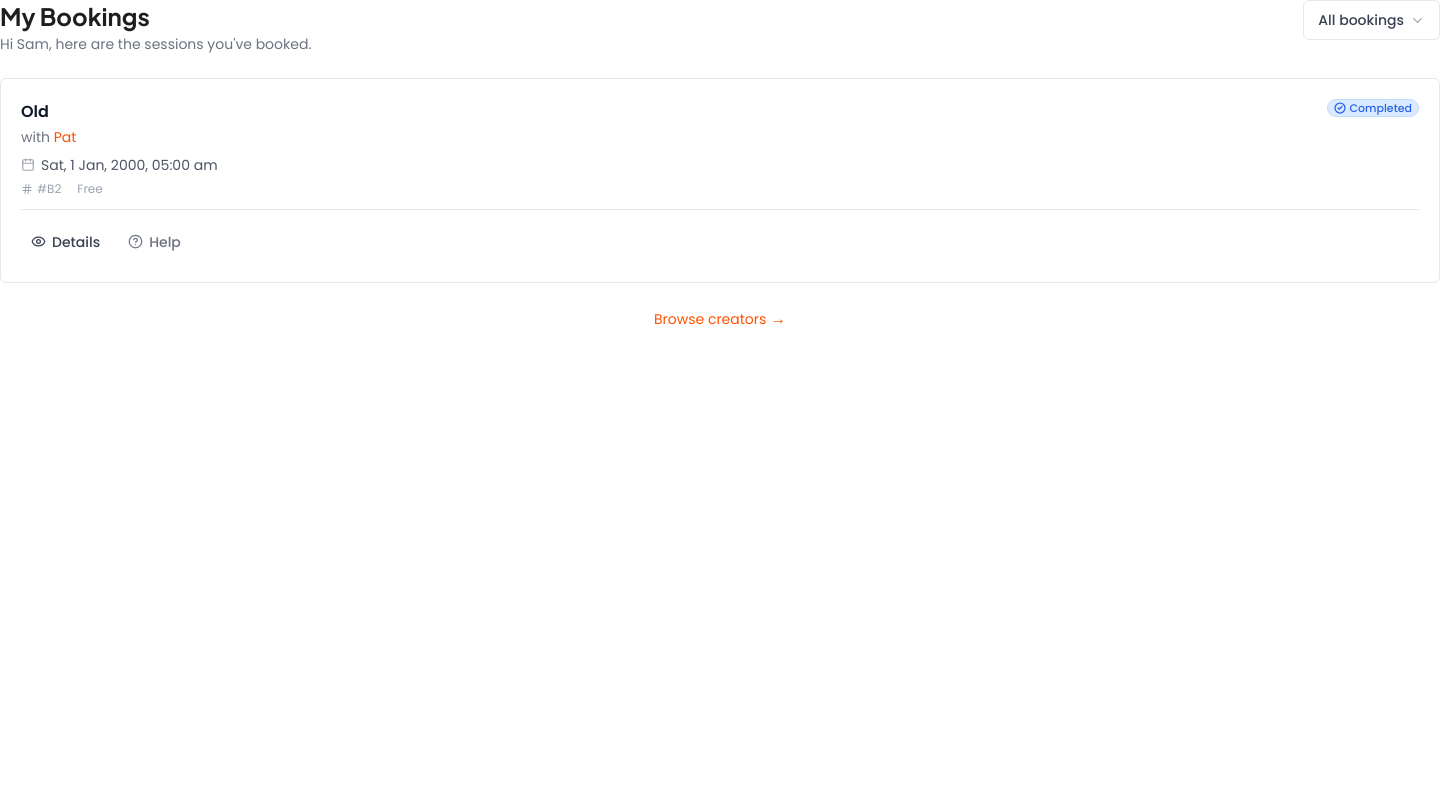
Scenario: review button hidden in Details when review flag off
Expected: the text "Old" is shown, [21, 100, 49, 123]
Click the button "Details" at (66, 242), box [21, 222, 110, 262]
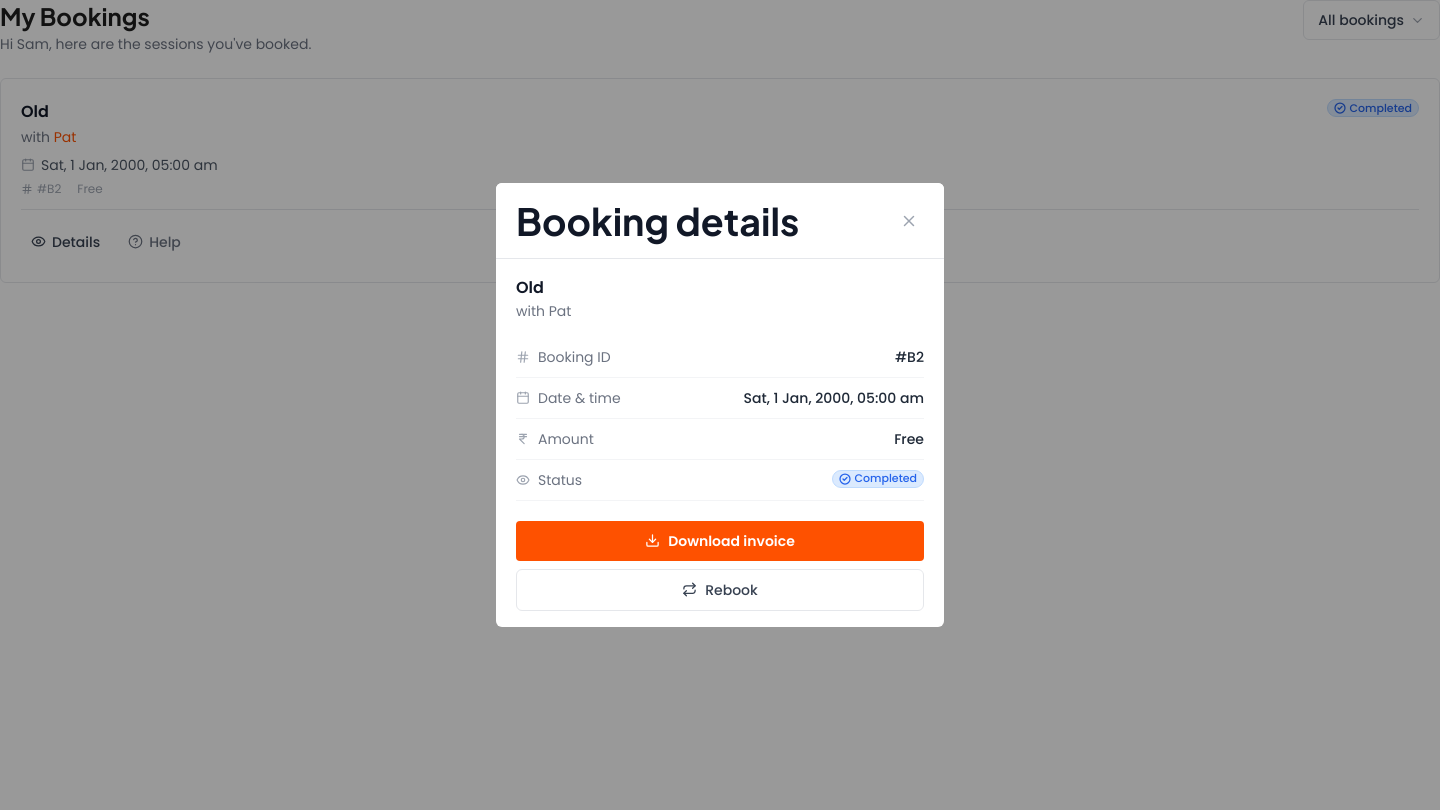
Expected: the heading "Booking details" is shown, [516, 199, 799, 242]
